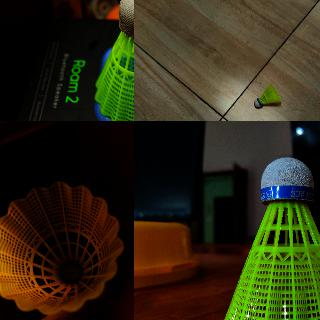shuttlecock: (0, 180, 124, 316), (223, 156, 319, 319), (93, 0, 133, 120), (254, 83, 280, 107)
